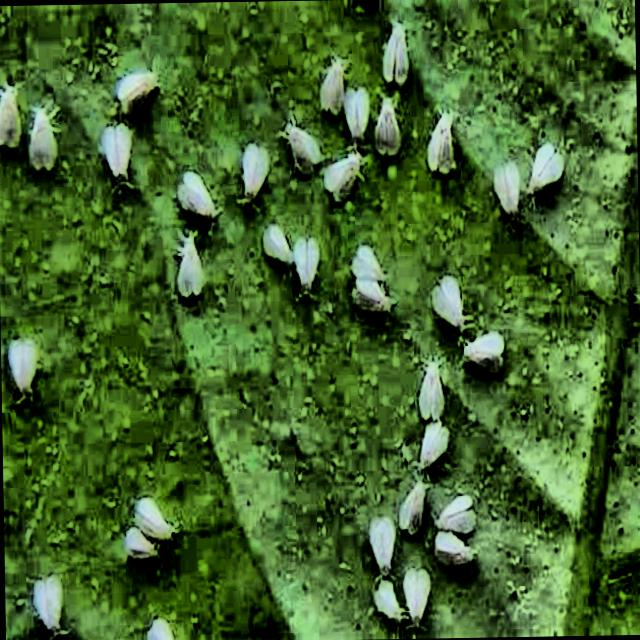whitefly: (282, 117, 319, 173), (323, 149, 361, 201), (27, 107, 57, 170), (31, 576, 63, 635), (115, 70, 158, 113), (178, 172, 215, 220), (133, 497, 174, 540), (527, 143, 562, 193), (6, 338, 36, 396), (238, 143, 267, 202), (432, 275, 463, 330), (175, 234, 202, 297), (101, 124, 130, 182), (382, 21, 408, 84), (427, 112, 453, 173), (398, 480, 427, 534), (373, 97, 400, 155), (464, 332, 502, 373), (435, 494, 474, 533), (369, 517, 395, 575), (418, 361, 443, 421), (343, 88, 368, 148), (402, 569, 429, 624), (493, 161, 519, 218), (292, 237, 318, 292), (319, 57, 343, 114), (419, 421, 448, 467), (434, 531, 472, 565), (373, 579, 403, 621), (352, 279, 389, 312), (0, 84, 19, 147), (263, 224, 291, 266), (352, 246, 385, 281), (123, 527, 154, 559), (145, 617, 173, 640)
